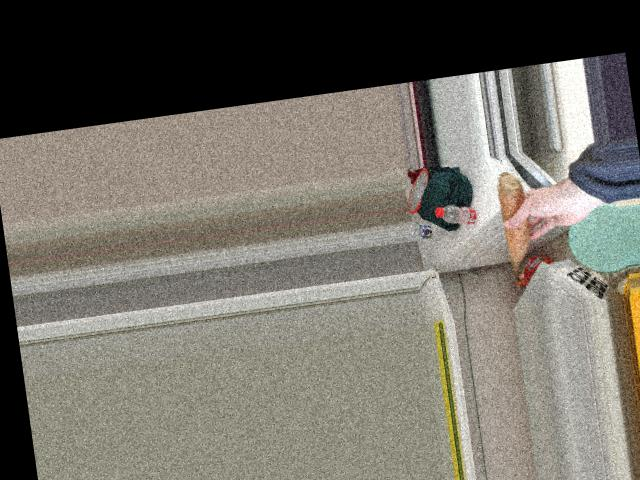sweet_potato: (497, 179, 534, 267)
